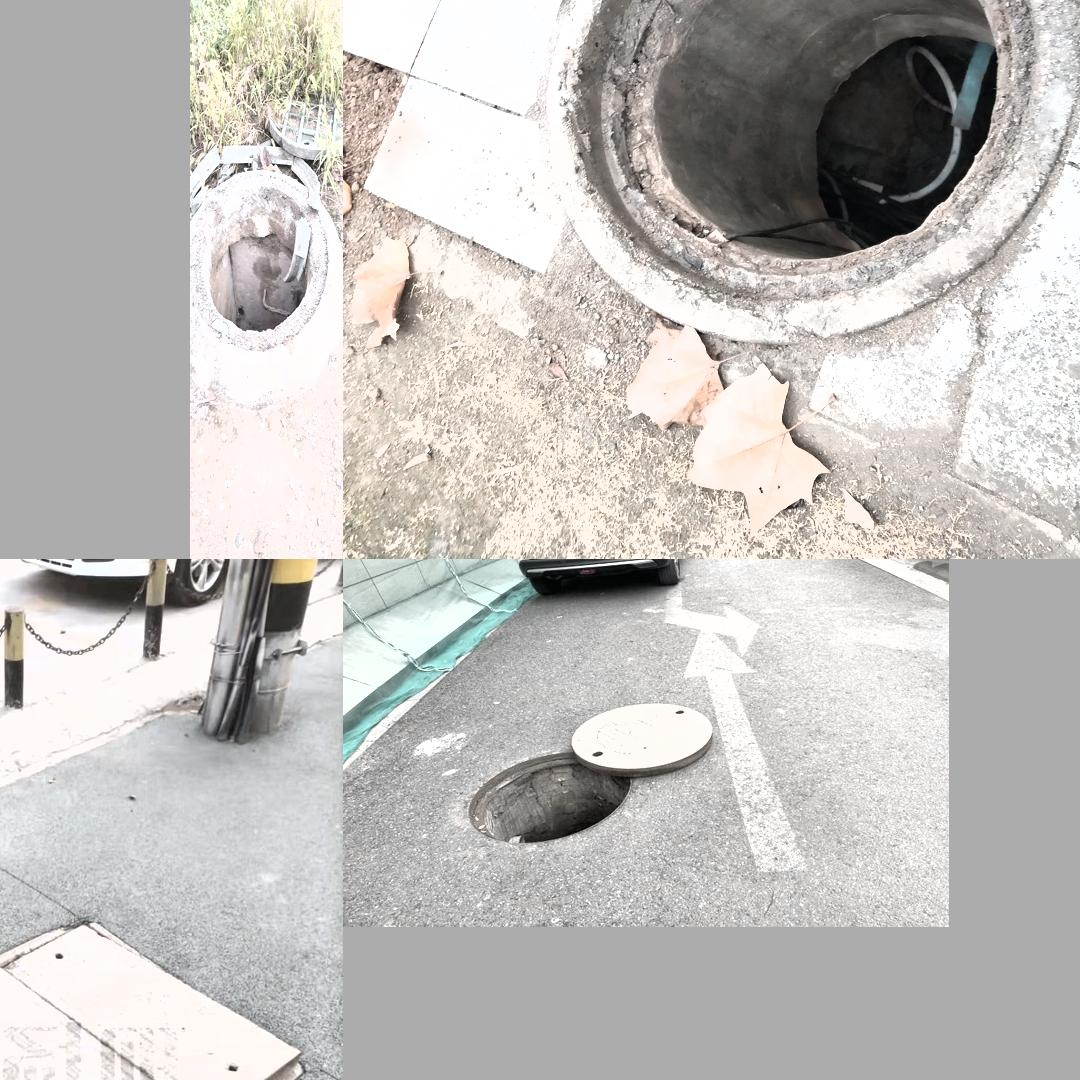uncovered: (524, 0, 1080, 339), (194, 35, 340, 407), (0, 915, 301, 1080), (458, 692, 726, 856)
